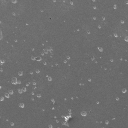corrosion: (30, 54, 42, 63), (61, 114, 73, 122), (11, 76, 21, 85), (4, 90, 13, 99), (17, 87, 26, 95), (43, 47, 53, 54), (96, 45, 104, 53), (121, 87, 128, 96), (18, 102, 26, 109), (32, 81, 38, 90), (80, 110, 87, 117), (50, 98, 57, 105), (47, 122, 55, 128), (112, 3, 118, 11), (46, 76, 53, 82), (96, 23, 102, 30), (18, 70, 24, 76), (113, 32, 119, 38), (35, 68, 41, 74), (65, 55, 71, 61), (90, 55, 96, 61), (120, 18, 125, 25), (1, 57, 5, 65), (114, 96, 120, 101), (104, 119, 109, 125), (25, 82, 31, 87), (124, 35, 128, 42), (11, 1, 18, 5), (110, 57, 114, 64), (36, 93, 41, 98), (29, 70, 34, 75), (92, 5, 97, 10), (1, 96, 5, 102), (86, 78, 92, 82), (92, 15, 95, 20)
